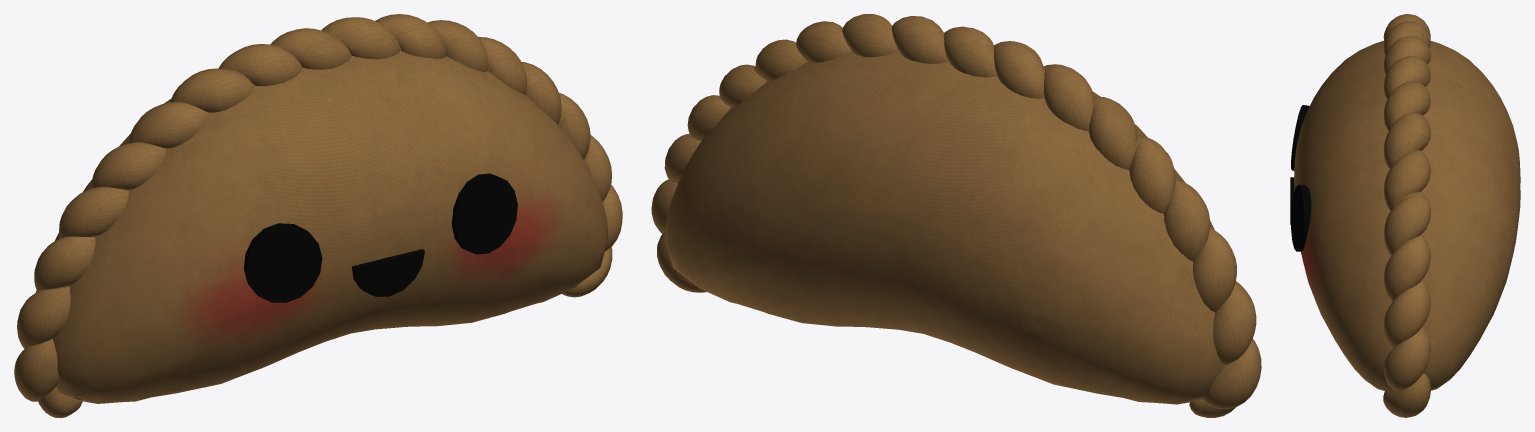
File: curryPuffLP.fbx
The picture shows the model from 3 angles, left to right: view 1: azimuth 30°, elevation 25°; view 2: azimuth 150°, elevation 25°; view 3: azimuth 270°, elevation 25°; orthographic projection. The views are drawn at different scales.
Visible parts, largest first — view 1: CurryPuff_LP1Shape; view 2: CurryPuff_LP1Shape; view 3: CurryPuff_LP1Shape.
Boxes of the visible parts, box(x1,y1,x2,y2) form: CurryPuff_LP1Shape: box(14, 14, 622, 417); CurryPuff_LP1Shape: box(651, 14, 1261, 417); CurryPuff_LP1Shape: box(1290, 14, 1520, 417).
Size of the model in its own units: 269 by 140 by 109.
Materials: 1 (1 with a texture image).
